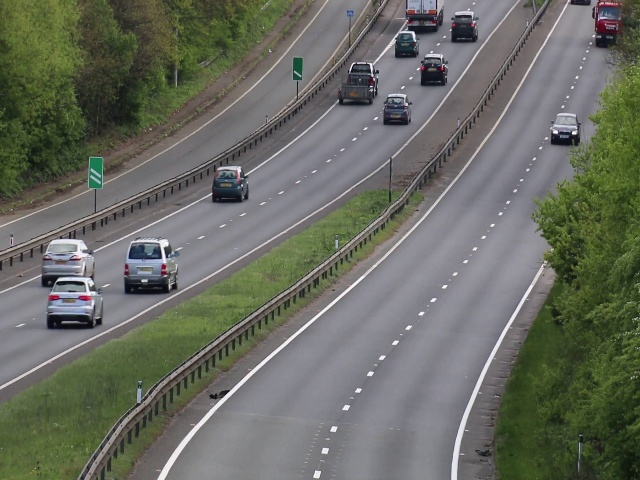car: (121, 236, 180, 296), (46, 275, 103, 328), (39, 236, 99, 284), (336, 60, 380, 107), (210, 165, 250, 202), (381, 91, 414, 126), (449, 7, 479, 44), (420, 49, 448, 88), (550, 111, 580, 147), (391, 30, 419, 59)
